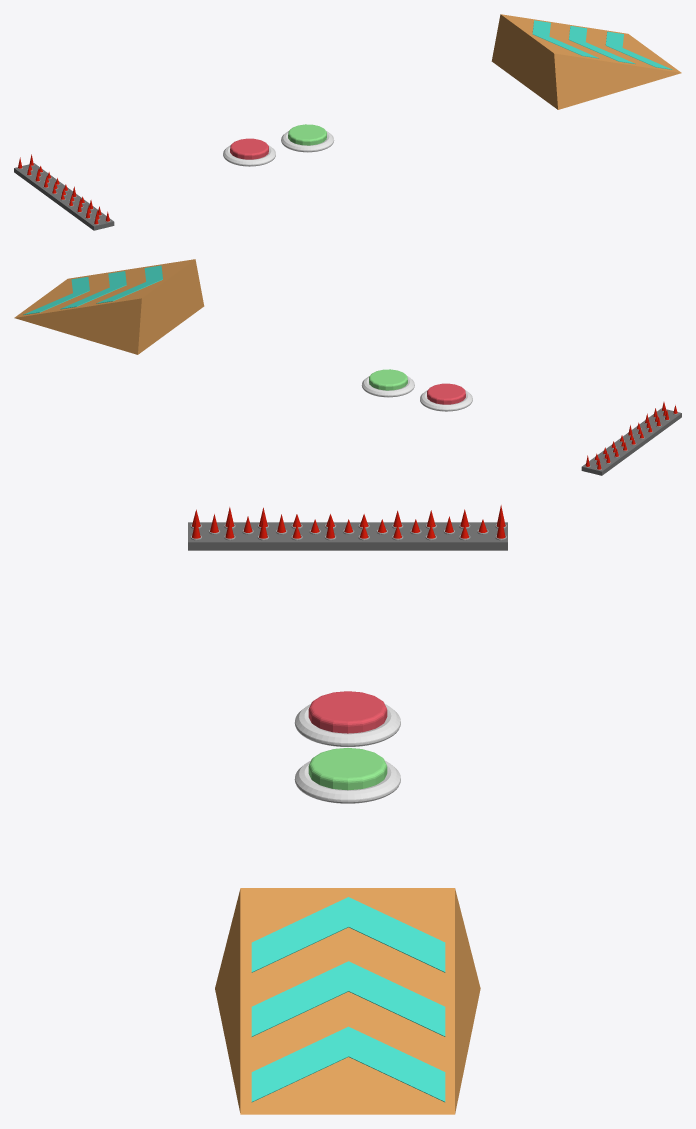
Rendered from obstacle08.fbx.
The picture shows the model from 3 angles, top to bottom: view 1: azimuth 30°, elevation 25°; view 2: azimuth 150°, elevation 25°; view 3: azimuth 270°, elevation 25°; orthographic projection. The views are drawn at different scales.
Parts seen in each view (by area): view 1: obstacle08.7, obstacle08.1, obstacle08.3, obstacle08.4, obstacle08.2, obstacle08.6, obstacle08.5; view 2: obstacle08.7, obstacle08.1, obstacle08.3, obstacle08.4, obstacle08.2, obstacle08.6, obstacle08.5; view 3: obstacle08.7, obstacle08.1, obstacle08.3, obstacle08.4, obstacle08.2, obstacle08.6, obstacle08.5.
Part boxes in pixels (box(x1,y1,x2,y2)): obstacle08.7: box(491, 14, 681, 109); obstacle08.1: box(14, 163, 114, 230); obstacle08.3: box(230, 138, 268, 159); obstacle08.4: box(288, 124, 326, 145); obstacle08.2: box(18, 154, 109, 224); obstacle08.6: box(281, 131, 334, 152); obstacle08.5: box(223, 145, 275, 166); obstacle08.7: box(14, 259, 204, 354); obstacle08.1: box(581, 408, 681, 475); obstacle08.3: box(427, 383, 465, 404); obstacle08.4: box(369, 369, 407, 390); obstacle08.2: box(585, 402, 677, 469); obstacle08.6: box(361, 376, 414, 397); obstacle08.5: box(420, 390, 472, 411); obstacle08.7: box(215, 888, 480, 1114); obstacle08.1: box(188, 522, 507, 550); obstacle08.3: box(308, 691, 387, 733); obstacle08.4: box(308, 748, 387, 790); obstacle08.2: box(192, 505, 505, 538); obstacle08.6: box(294, 760, 400, 803); obstacle08.5: box(294, 704, 400, 746).
Size of the model in its own units: 717 by 61.88 by 165.
